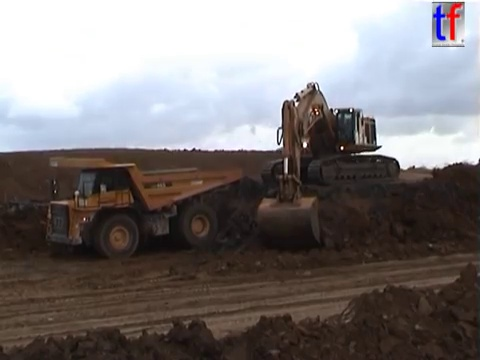excavator: (252, 79, 402, 251)
truck: (38, 154, 243, 261), (273, 139, 350, 166)
